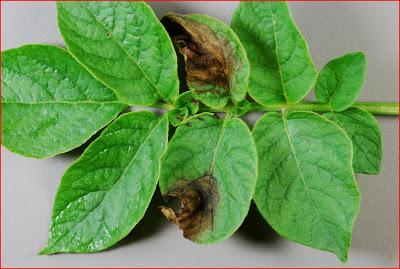Potato leaf: (151, 108, 258, 248), (155, 6, 250, 115)
